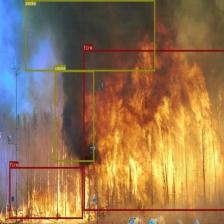fire: (83, 50, 224, 210), (9, 166, 83, 218)
smoke: (25, 0, 155, 71), (54, 70, 94, 162)
